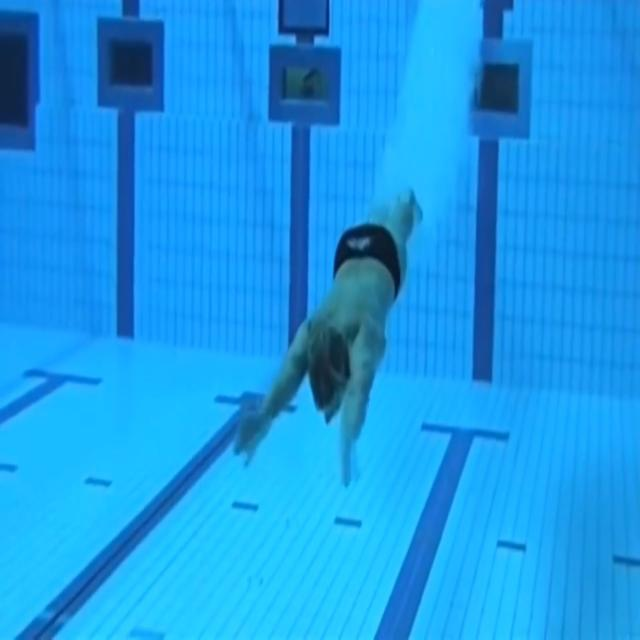Swimming: (235, 184, 424, 486)
